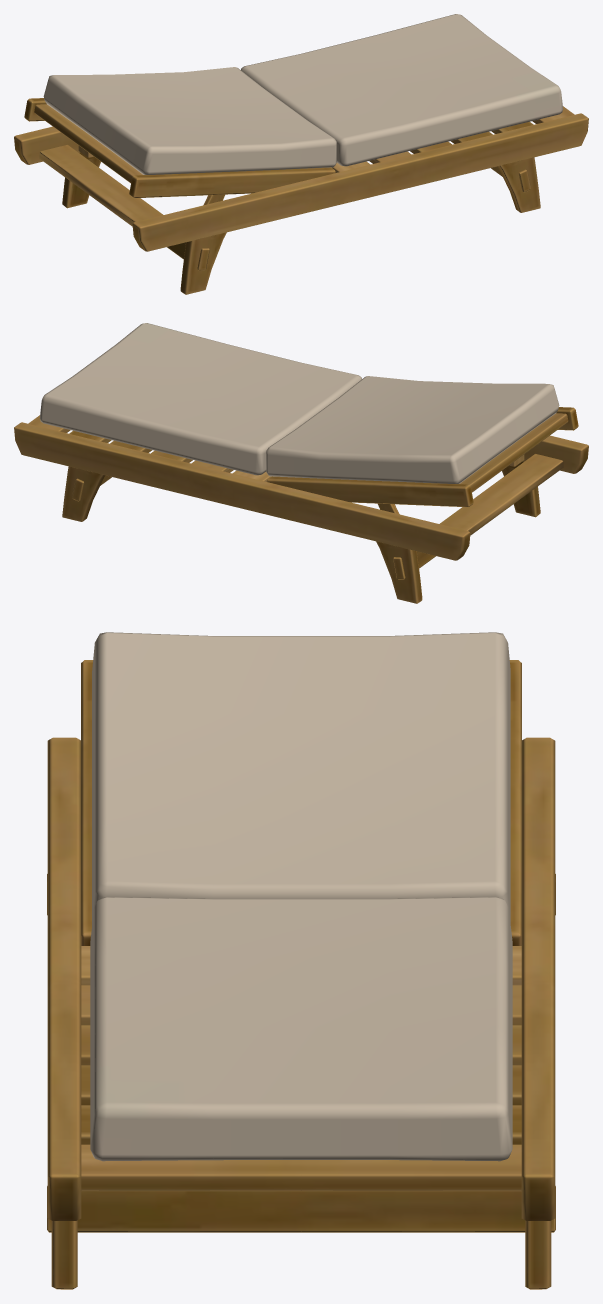
The picture shows the model from 3 angles, top to bottom: view 1: azimuth 30°, elevation 25°; view 2: azimuth 150°, elevation 25°; view 3: azimuth 270°, elevation 25°; orthographic projection. The views are drawn at different scales.
Bounding box in the file's own units: 17.75 × 5.46 × 8.68.
2 materials, 2 textured.
